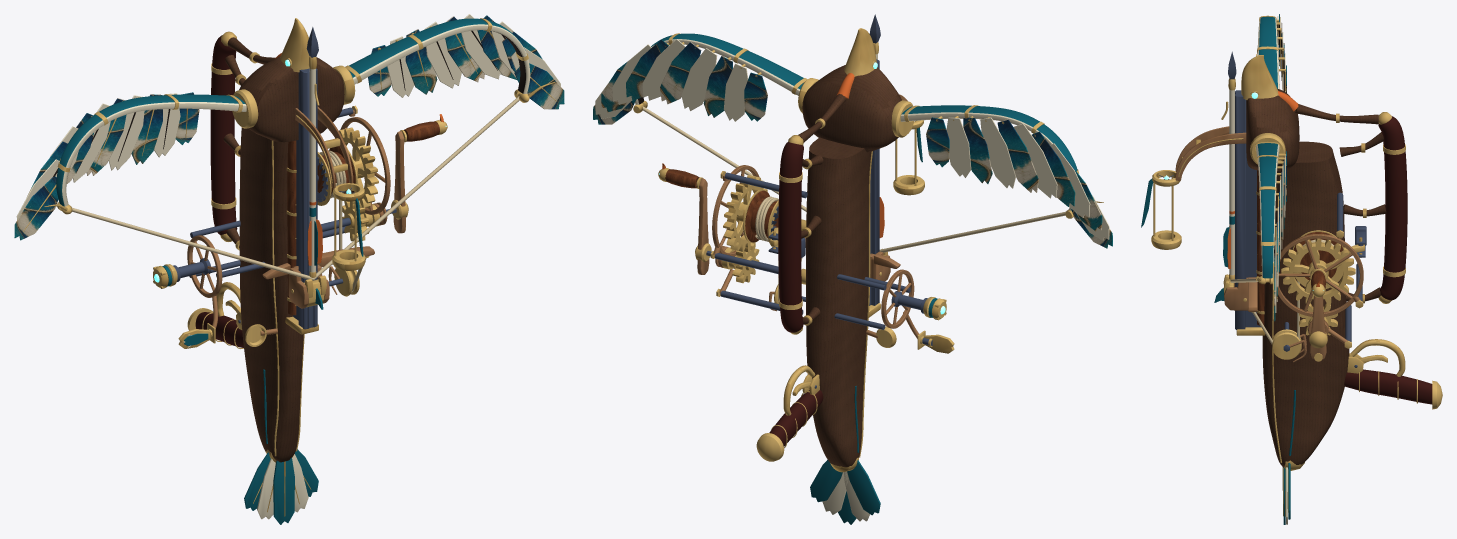
File: crossbow.glb
3 renders of one model, left to right at view 1: azimuth 30°, elevation 25°; view 2: azimuth 150°, elevation 25°; view 3: azimuth 270°, elevation 25°, orthographic. The views are drawn at different scales.
Visible parts, largest first — view 1: Body, Wings, LiveCord, Bolt, Sled, Reduction, Drum, Crank, Pinion, CrankKnob; view 2: Body, Wings, Drum, LiveCord, Reduction, Crank, Pinion, Sled, CrankKnob; view 3: Body, Wings, Reduction, Bolt, Sled, Crank, Drum, OpticRear, Pinion.
Boxes of the visible parts, x1,y1,x2,y2 form: Body: (173,18,390,524); Wings: (14,14,564,240); LiveCord: (72,95,519,292); Bolt: (306,27,322,277); Sled: (262,246,374,309); Reduction: (335,127,378,208); Drum: (317,146,357,205); Crank: (386,130,408,233); Pinion: (321,201,379,241); CrankKnob: (404,114,447,141); Body: (710,28,927,524); Wings: (593,33,1112,248); Drum: (743,189,778,247); LiveCord: (642,106,1065,302); Reduction: (723,175,767,251); Crank: (695,177,711,274); Pinion: (721,243,778,283); Sled: (804,237,900,281); CrankKnob: (658,163,699,188); Body: (1141,55,1442,524); Wings: (1255,14,1286,321); Reduction: (1281,238,1355,305); Bolt: (1223,51,1236,279); Sled: (1214,274,1257,312); Crank: (1309,267,1327,361); Drum: (1292,230,1344,289); OpticRear: (1151,230,1181,249); Pinion: (1299,303,1337,335).
Bounding box in the file's own units: 1.2 × 1.08 × 0.6259.
Materials: 13 (5 with a texture image).
